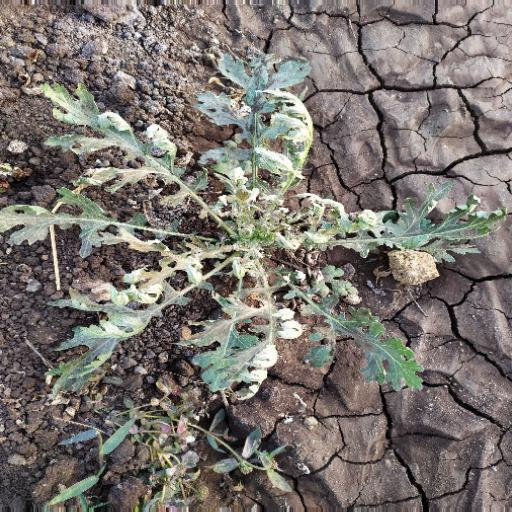weed: (8, 76, 512, 412)
